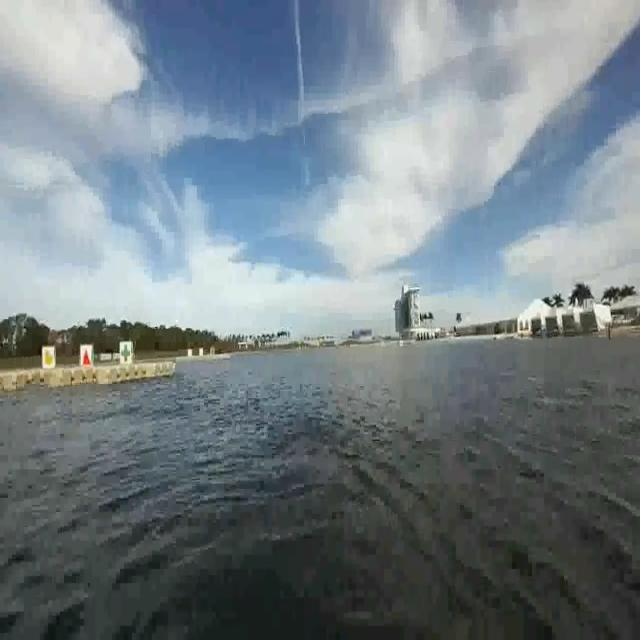blue-cross: (119, 342, 132, 365)
red-dot: (78, 341, 93, 368)
yellow-duck: (41, 347, 57, 369)
